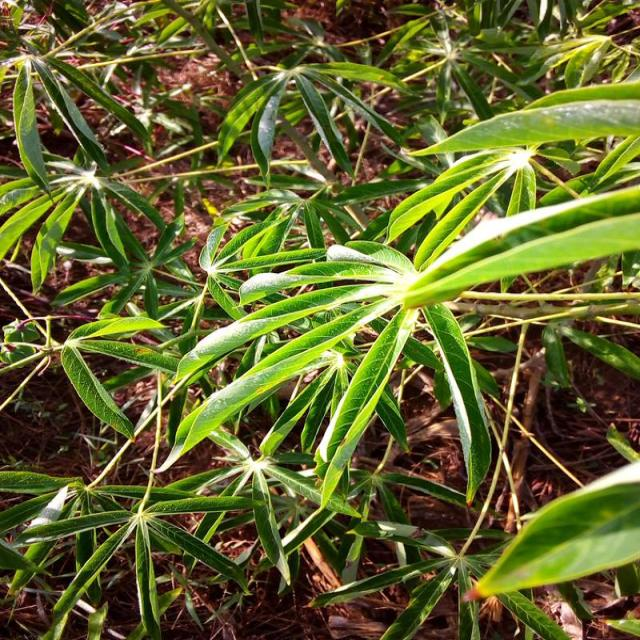cassava leaf: (462, 458, 638, 602)
